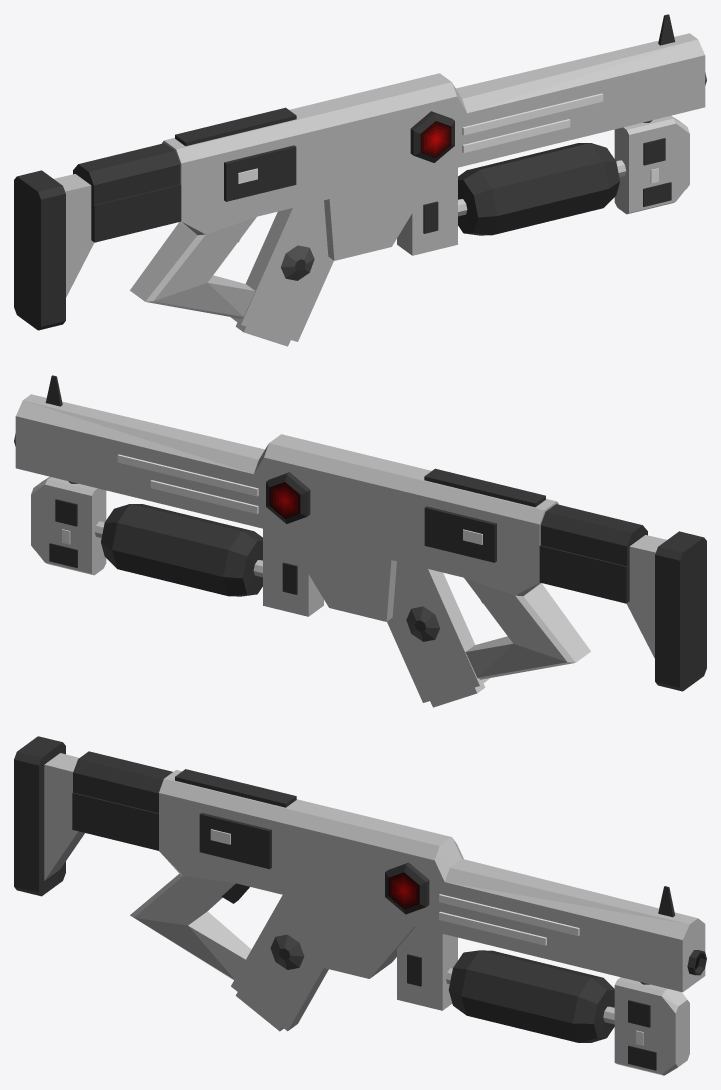
File: Rifle_D_V4.FBX
3 views of the same model, one above another, from view 1: azimuth 30°, elevation 25°; view 2: azimuth 150°, elevation 25°; view 3: azimuth 330°, elevation 25° (orthographic).
Parts seen in each view (by area): view 1: Rifle_D_V4; view 2: Rifle_D_V4; view 3: Rifle_D_V4.
Boxes of the visible parts, x1,y1,x2,y2 form: Rifle_D_V4: (14,14,706,341); Rifle_D_V4: (14,375,706,702); Rifle_D_V4: (14,736,706,1075).
Size of the model in its own units: 392 by 131 by 36.54.
